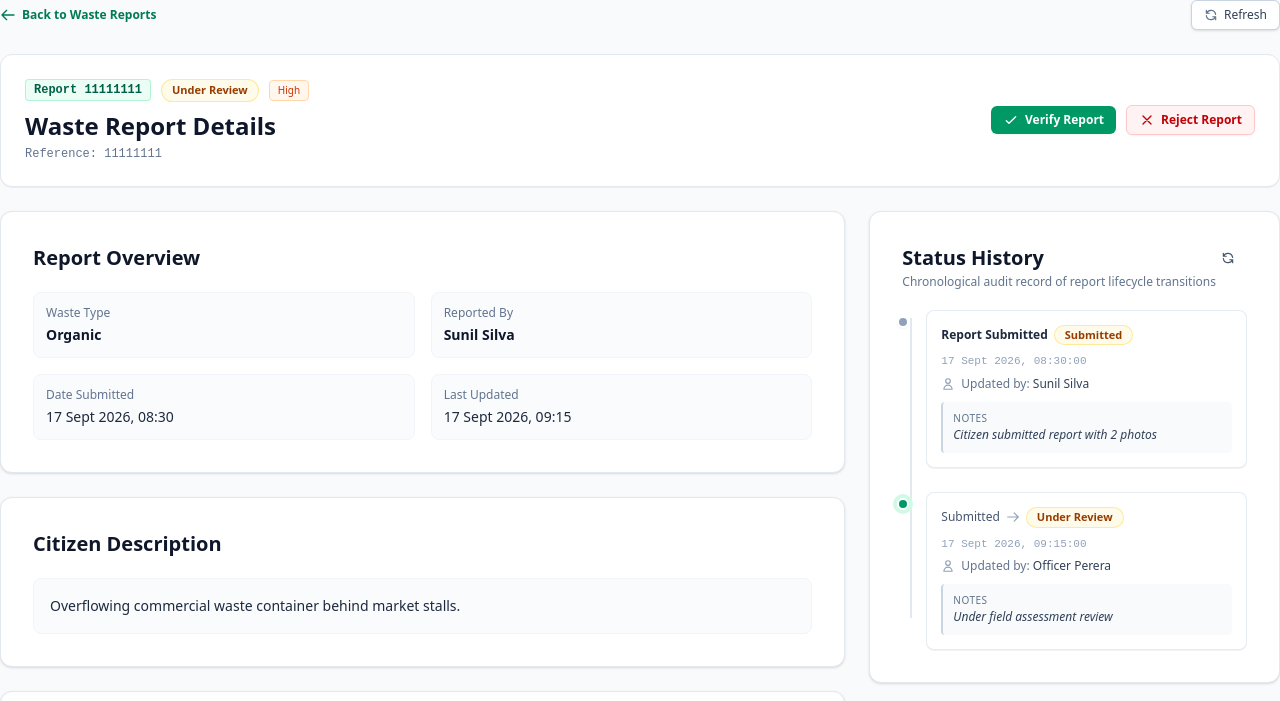
WasteReportDetailPage › handles 403 Forbidden and 500 server errors on Verify Report without faking success
Click the button with test id "verify-report-button" at point(1054, 120), box [991, 106, 1116, 134]
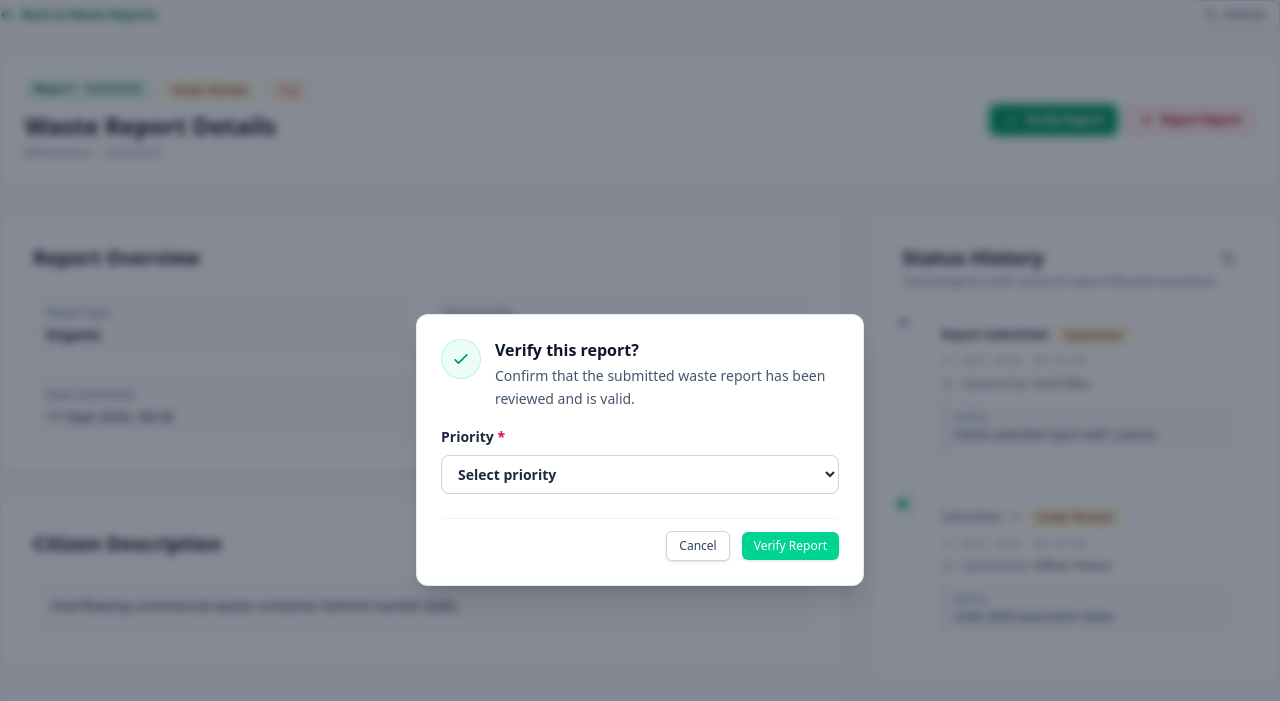
Select "Urgent" in the dropdown named "verification priority" at point(640, 474), box [441, 455, 839, 494]
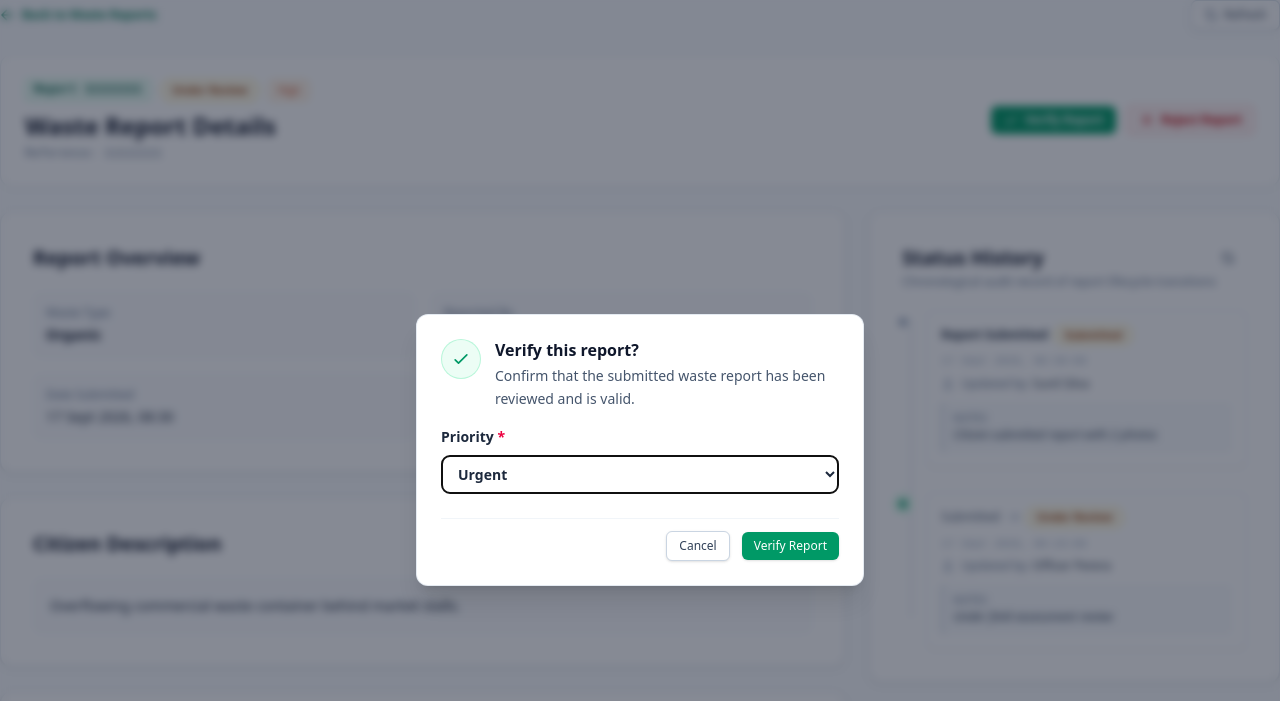
Select "High" in the dropdown named "Verification priority" at point(640, 474), box [441, 455, 839, 494]
Click the button with test id "confirm-verify-report-button" at point(790, 546), box [742, 532, 839, 560]
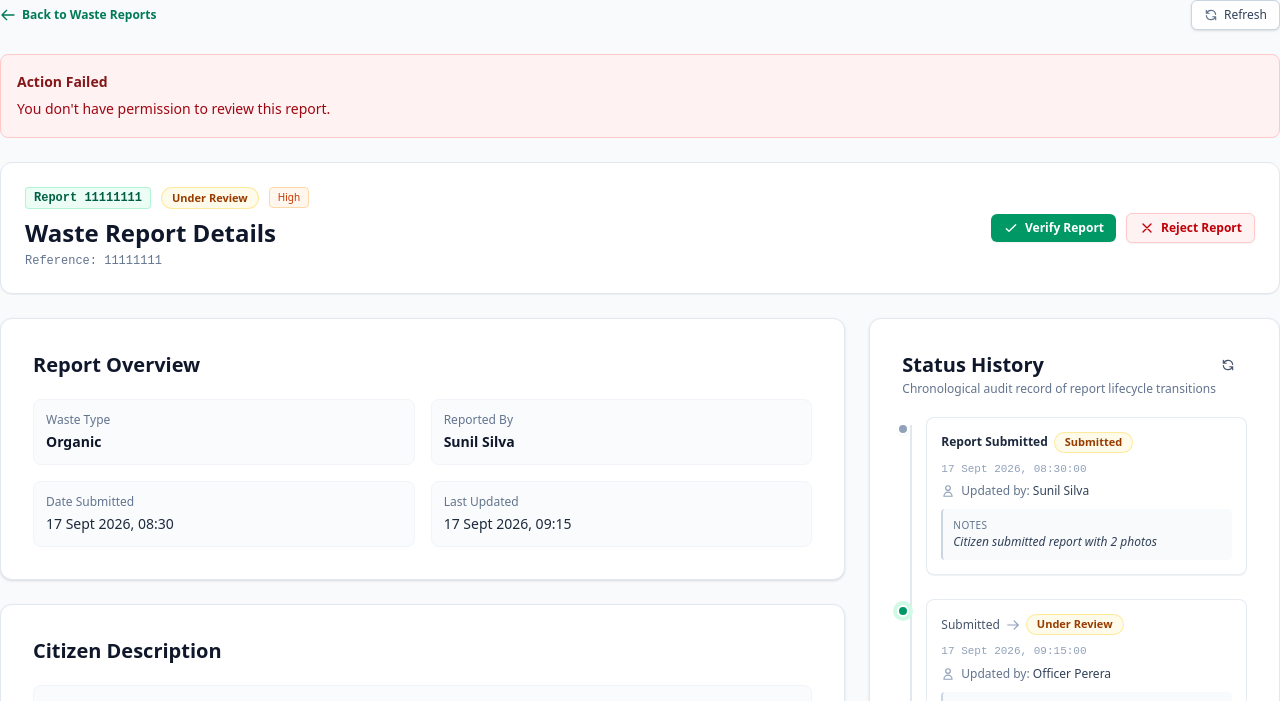
Now the text "You don't have permission to review this report." is shown, box [17, 99, 330, 118]
Click the button with test id "verify-report-button" at point(1054, 228), box [991, 214, 1116, 242]
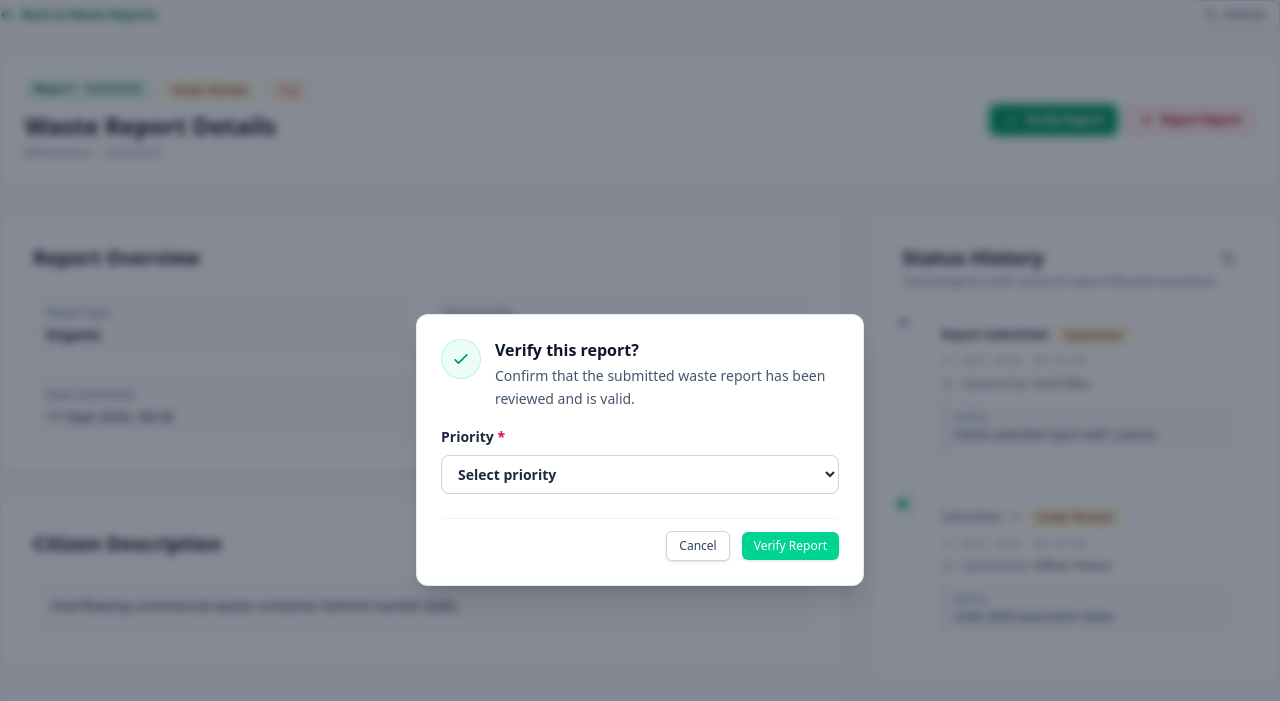
Select "Urgent" in the dropdown named "verification priority" at point(640, 474), box [441, 455, 839, 494]
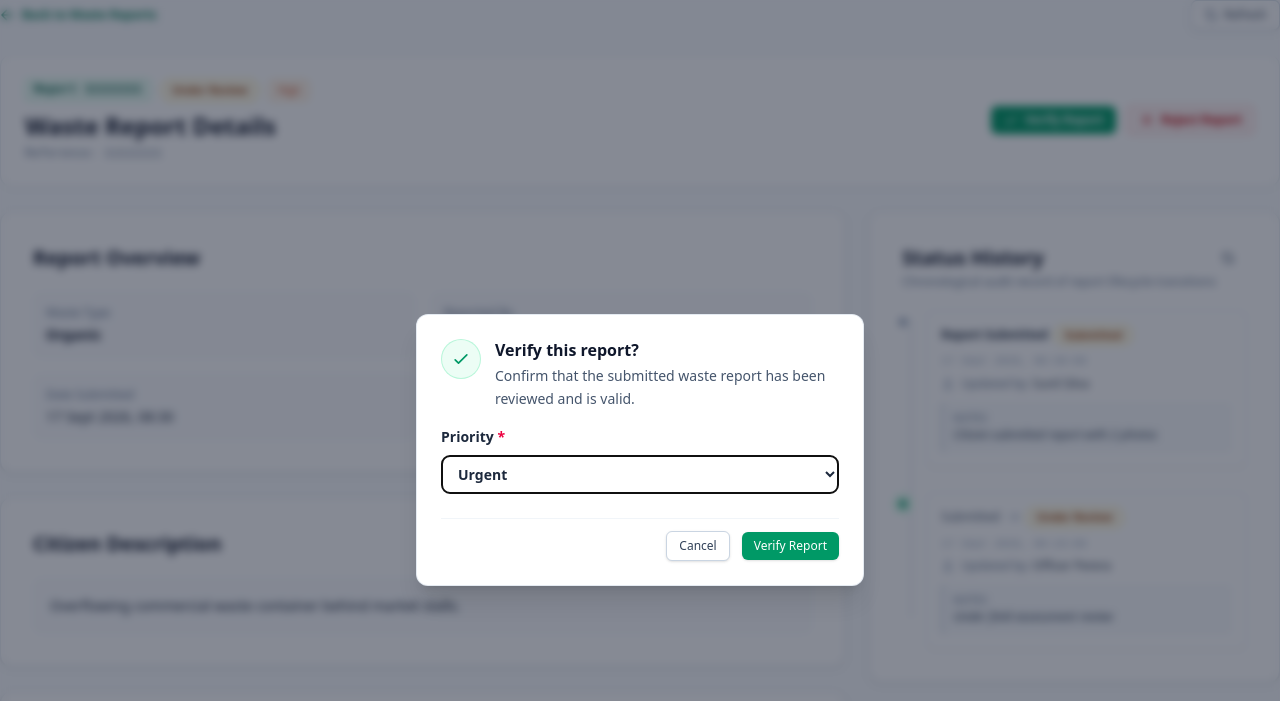
Click the button with test id "confirm-verify-report-button" at point(790, 546), box [742, 532, 839, 560]
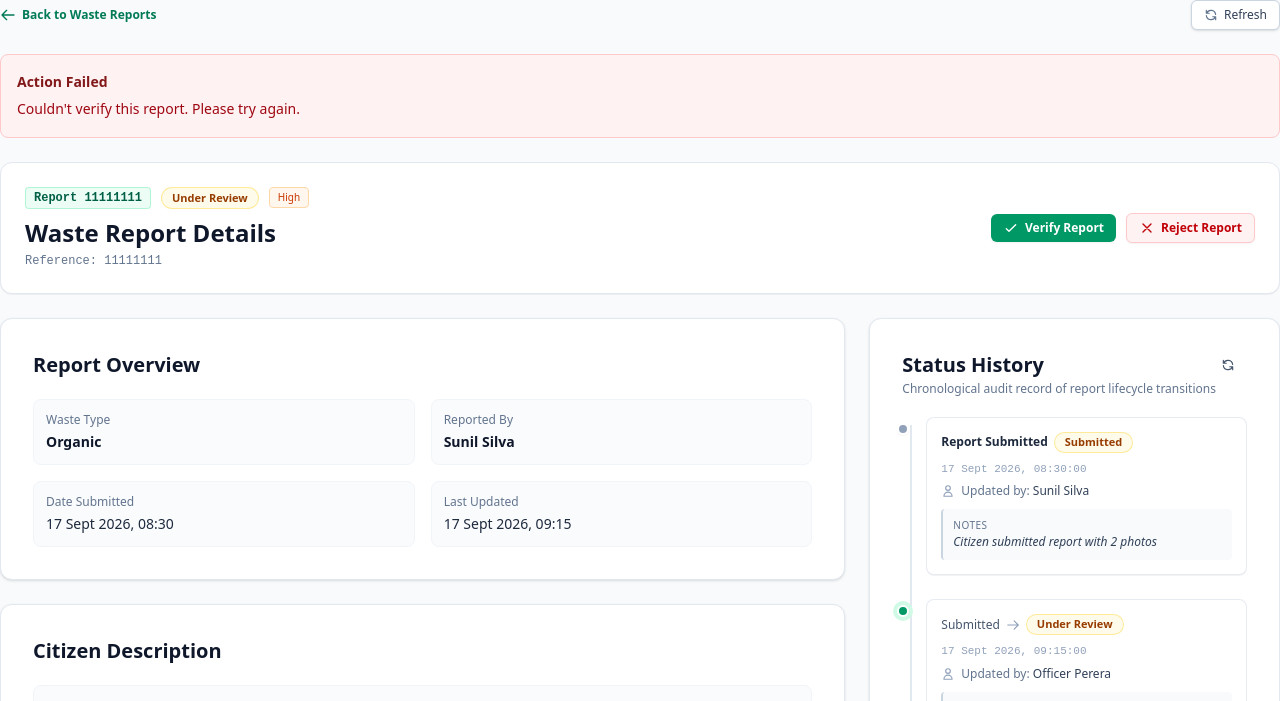
Now the text "Couldn't verify this report. Please try again." is shown, box [17, 99, 300, 118]
